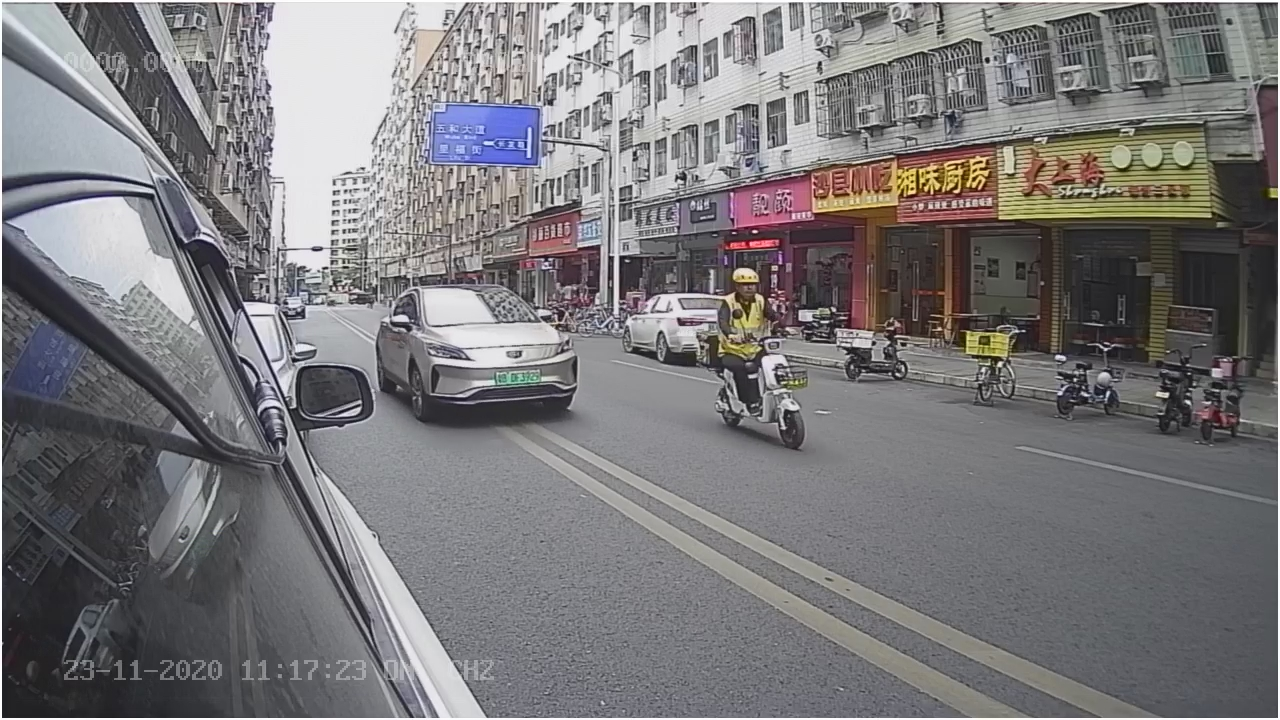person: (710, 265, 783, 367)
